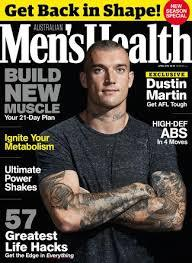Printing industry: (0, 2, 192, 263)
